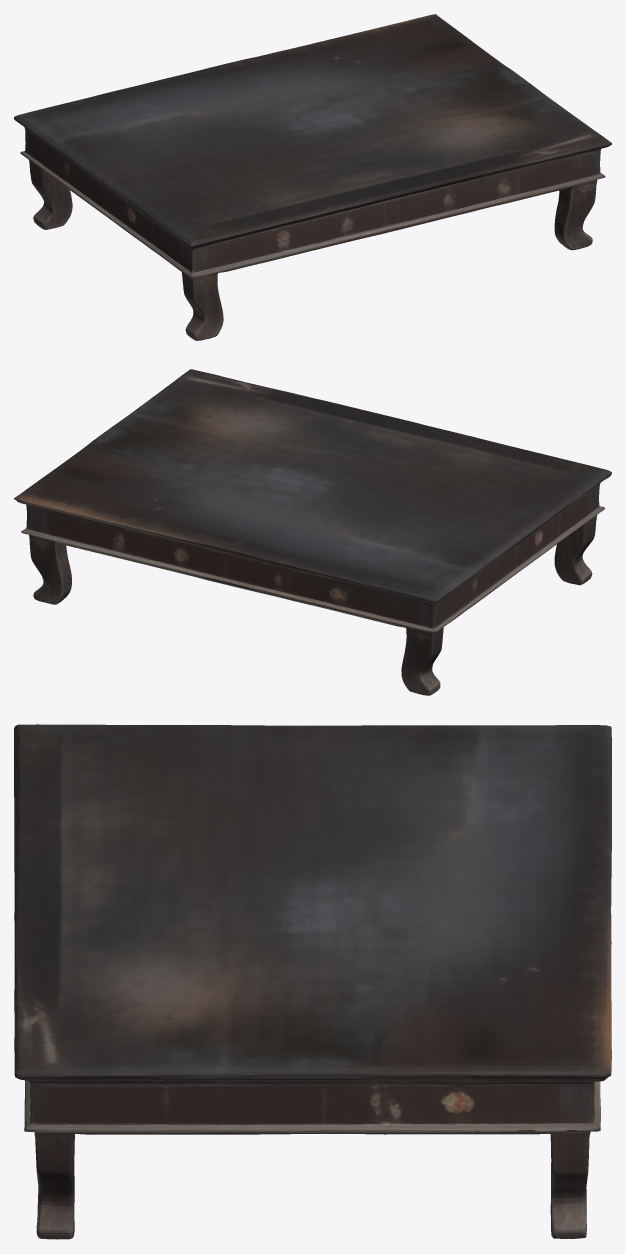
3 views of the same model, one above another, from view 1: azimuth 30°, elevation 25°; view 2: azimuth 150°, elevation 25°; view 3: azimuth 270°, elevation 25° (orthographic). The views are drawn at different scales.
Visible parts, largest first — view 1: world; view 2: world; view 3: world.
Boxes of the visible parts, x1,y1,x2,y2 form: world: (14,14,611,340); world: (14,369,611,695); world: (14,724,611,1239).
Size of the model in its own units: 0.9981 by 0.2434 by 0.7233.
Materials: 1 (1 with a texture image).
